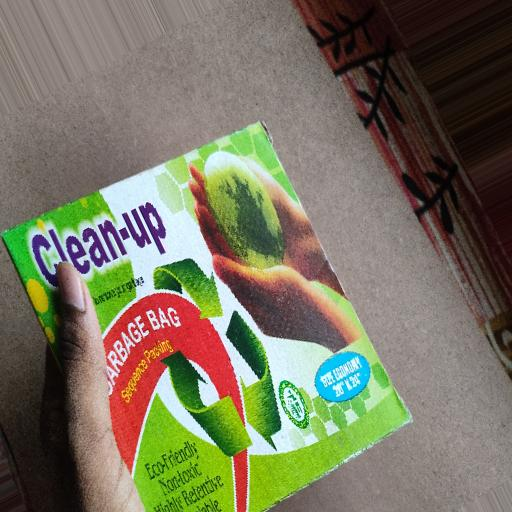CleanUp Garbage bag: (5, 130, 425, 512)
